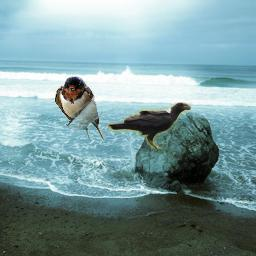Crow: (107, 102, 192, 149)
Swallow: (55, 76, 104, 140)
